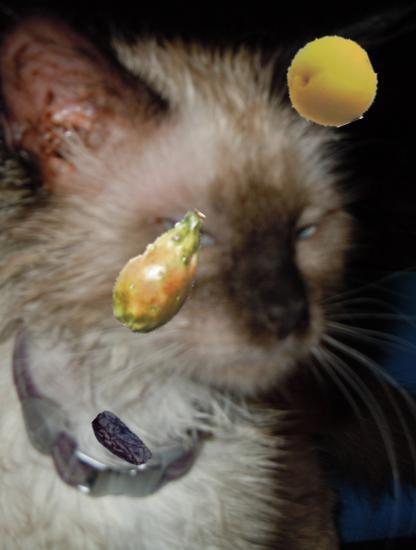Cactus: (98, 204, 235, 341)
Dates: (87, 406, 157, 476)
Peach: (285, 35, 377, 127)
